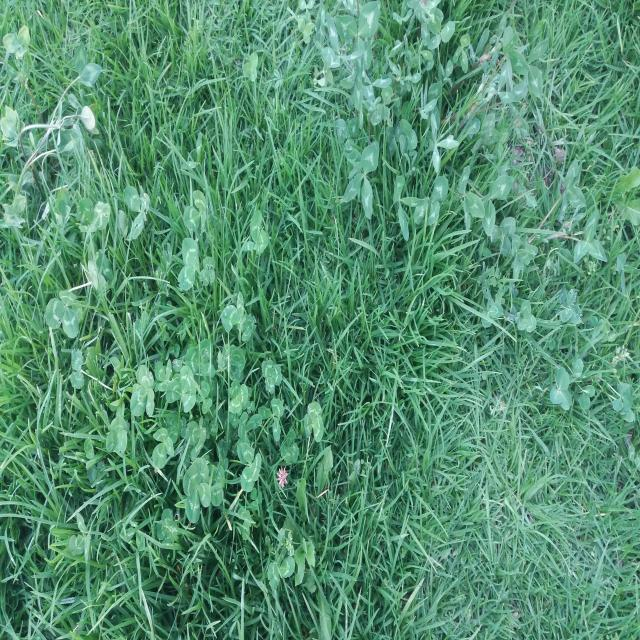Four Leaf Clover: (183, 457, 211, 524)
